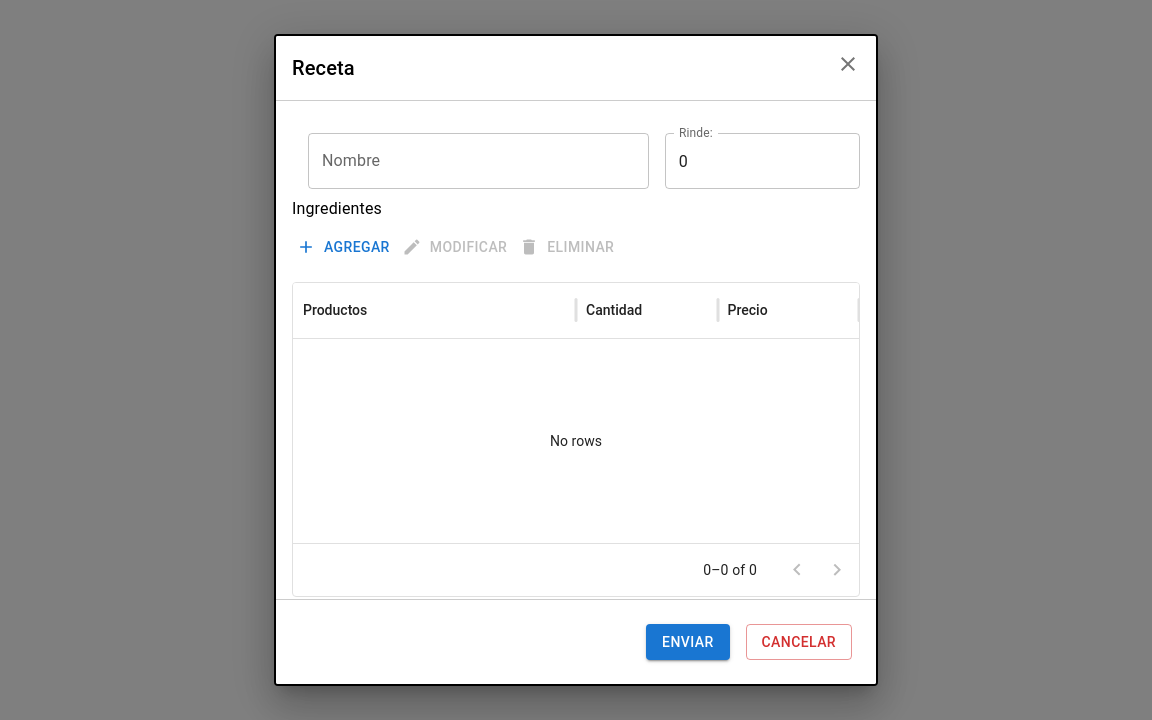
Test: RecetaFormModal › debería mostrar error si el nombre es muy corto
Type "A" into the field labelled "Nombre" at x=478, y=161, box [308,133,649,189]
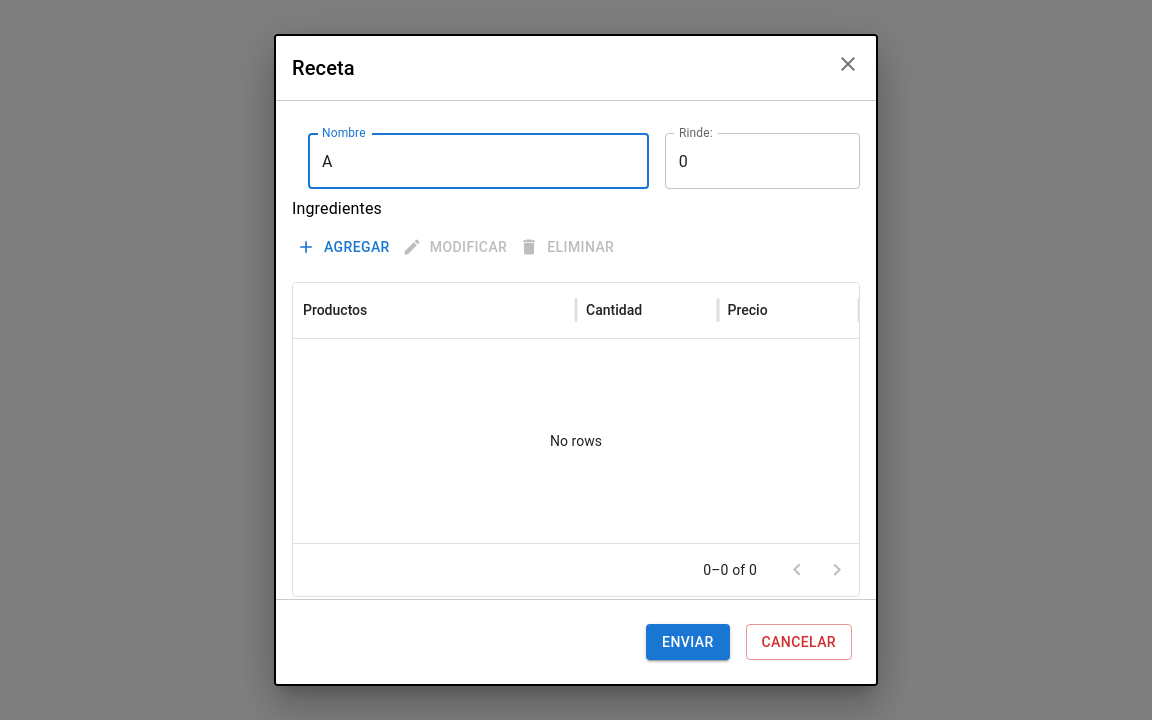
Click the button with test id "enviar-btn" at x=688, y=642, box [646,624,730,660]
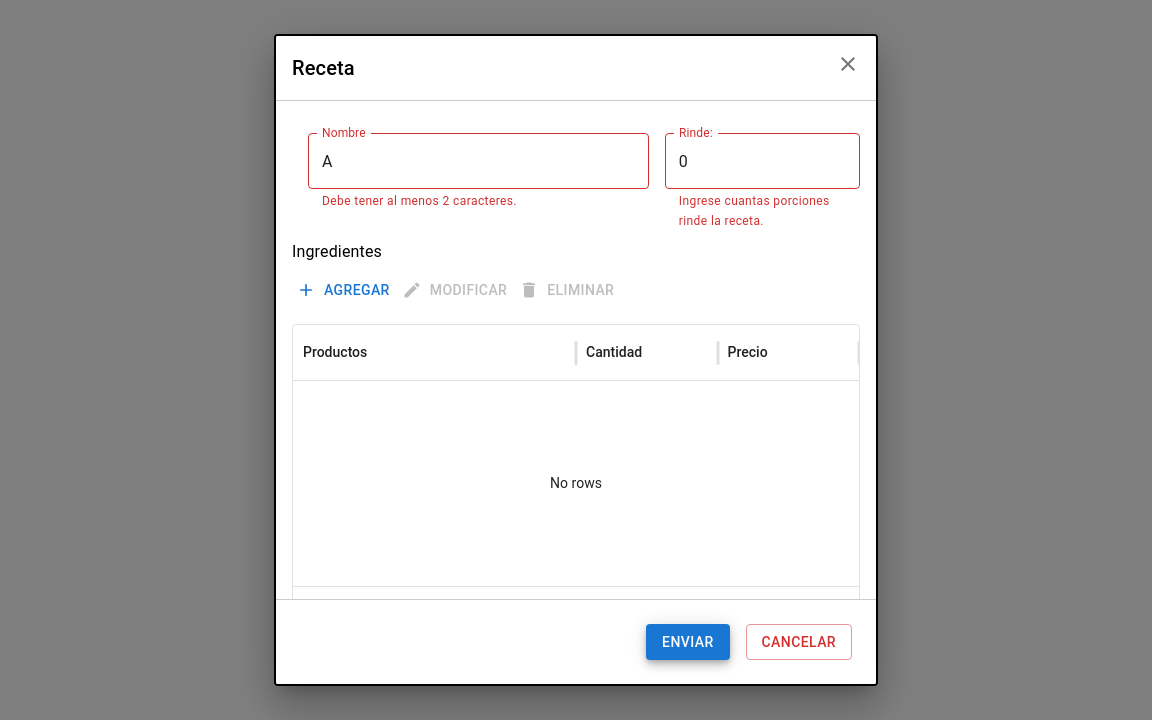
Check: the text "Debe tener al menos 2 caracteres." is shown, box [322,194,517,208]
